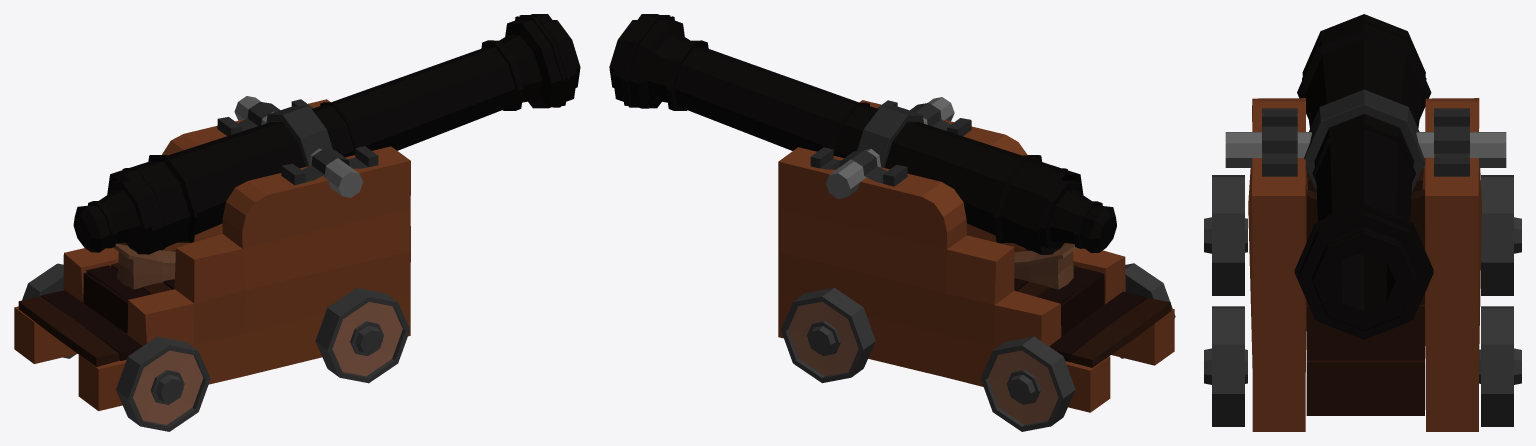
The model's file is cannon_v1.glb.
3 renders of one model, left to right at view 1: azimuth 30°, elevation 25°; view 2: azimuth 150°, elevation 25°; view 3: azimuth 270°, elevation 25°, orthographic. The views are drawn at different scales.
Parts seen in each view (by area): view 1: Planks_1, Fire_0, Wheels_2, Wooden Planks_5, Fire Holder_4, Fire Holder02_3; view 2: Planks_1, Fire_0, Wheels_2, Wooden Planks_5, Fire Holder_4, Fire Holder02_3; view 3: Fire_0, Planks_1, Wheels_2, Wooden Planks_5, Fire Holder_4.
Boxes of the visible parts, <box> form: Planks_1: <box>14,99,410,411</box>; Fire_0: <box>73,14,580,254</box>; Wheels_2: <box>22,263,409,431</box>; Wooden Planks_5: <box>18,250,175,366</box>; Fire Holder_4: <box>217,96,378,197</box>; Fire Holder02_3: <box>113,243,175,289</box>; Planks_1: <box>778,100,1174,412</box>; Fire_0: <box>609,14,1116,254</box>; Wheels_2: <box>781,263,1175,431</box>; Wooden Planks_5: <box>1014,252,1171,367</box>; Fire Holder_4: <box>810,97,971,198</box>; Fire Holder02_3: <box>1014,244,1076,289</box>; Fire_0: <box>1294,14,1433,339</box>; Planks_1: <box>1248,98,1481,431</box>; Wheels_2: <box>1204,175,1521,426</box>; Wooden Planks_5: <box>1306,168,1424,415</box>; Fire Holder_4: <box>1225,89,1506,192</box>.
Size of the model in its own units: 4.04 by 2.06 by 1.62.
Materials: 1 (1 with a texture image).
